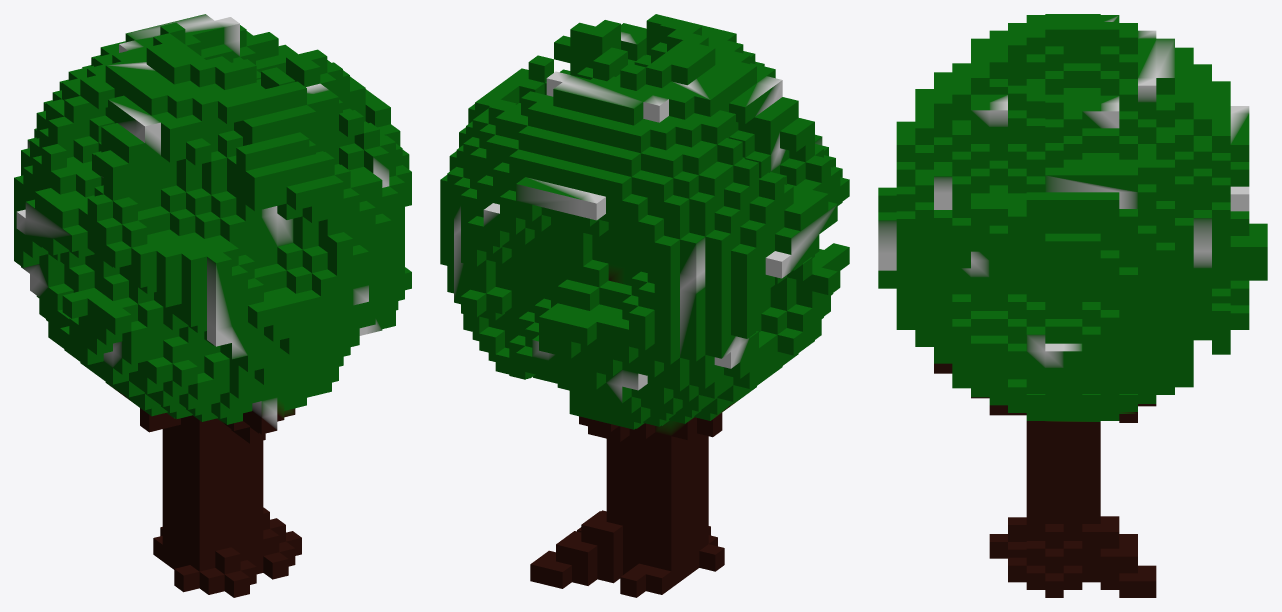
The model's file is Tree_3.fbx.
3 views of the same model, side by side, from view 1: azimuth 30°, elevation 25°; view 2: azimuth 150°, elevation 25°; view 3: azimuth 270°, elevation 25° (orthographic).
Visible parts, largest first — view 1: Tree_3; view 2: Tree_3; view 3: Tree_3.
Boxes of the visible parts, <box> form: Tree_3: <box>14,14,411,597</box>; Tree_3: <box>440,14,849,597</box>; Tree_3: <box>878,14,1267,597</box>.
Size of the model in its own units: 109 by 161 by 109.
